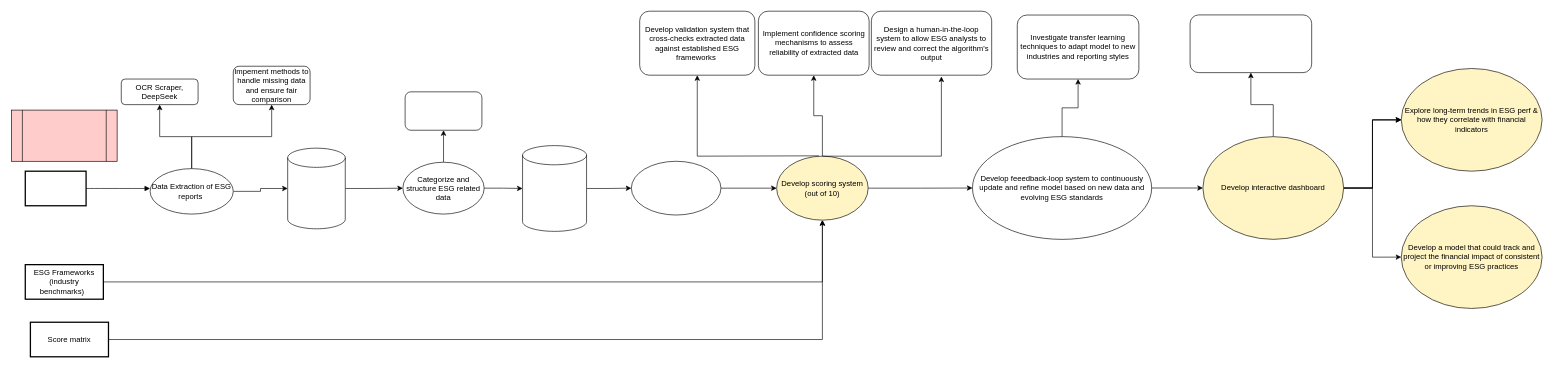
The diagram is 1553 pixels wide and 369 high, and some of its shapes have lost their labels. The centre of each missing label's shape, as x and y in pixels:
"Analyze ESG scores across various companies and subscores" belongs at point (1250, 43).
"Data storage in PostGreSQL" belongs at point (554, 188).
"Ensure accuracy and reliability of extracted ESG info" belongs at point (676, 188).
"ESG Reports" belongs at point (55, 188).
"Finetune FinBERT" belongs at point (443, 110).
"Initial Data" belongs at point (64, 135).
"Store raw data in PostGreSQL" belongs at point (316, 188).
